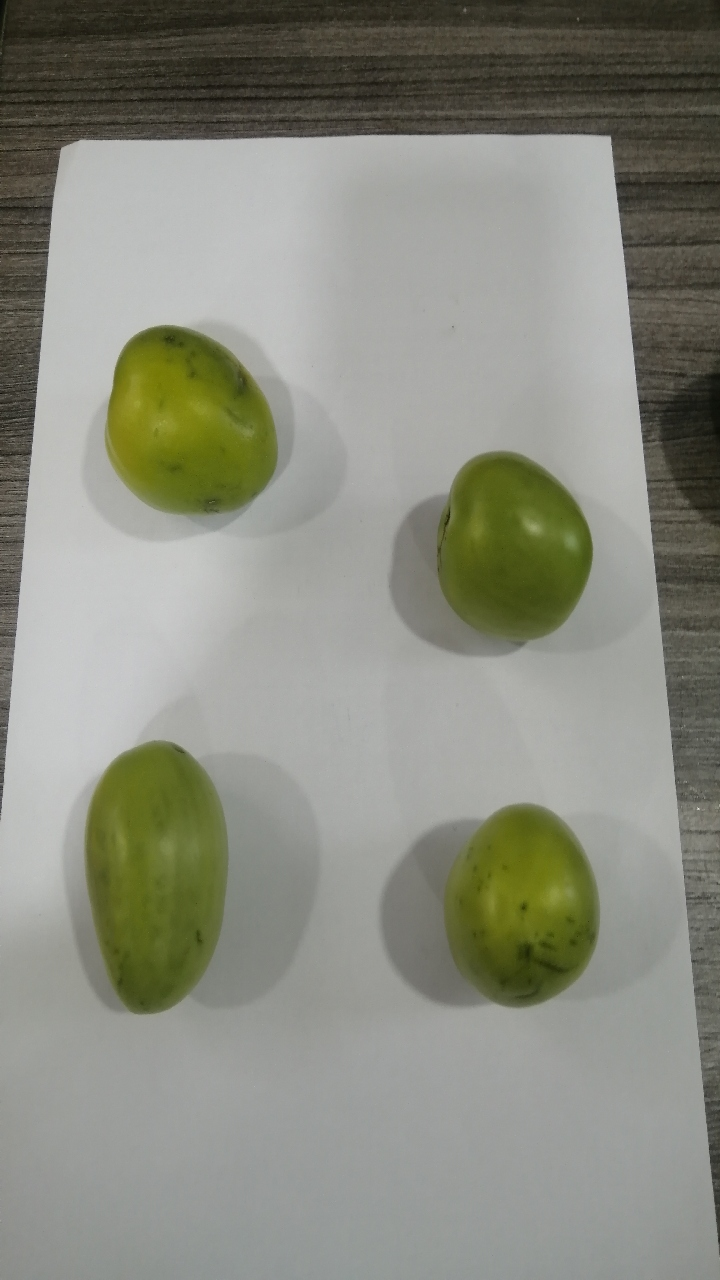tomateVerde: (52, 729, 266, 1046), (80, 306, 292, 540), (409, 431, 620, 655), (420, 786, 617, 1015)
